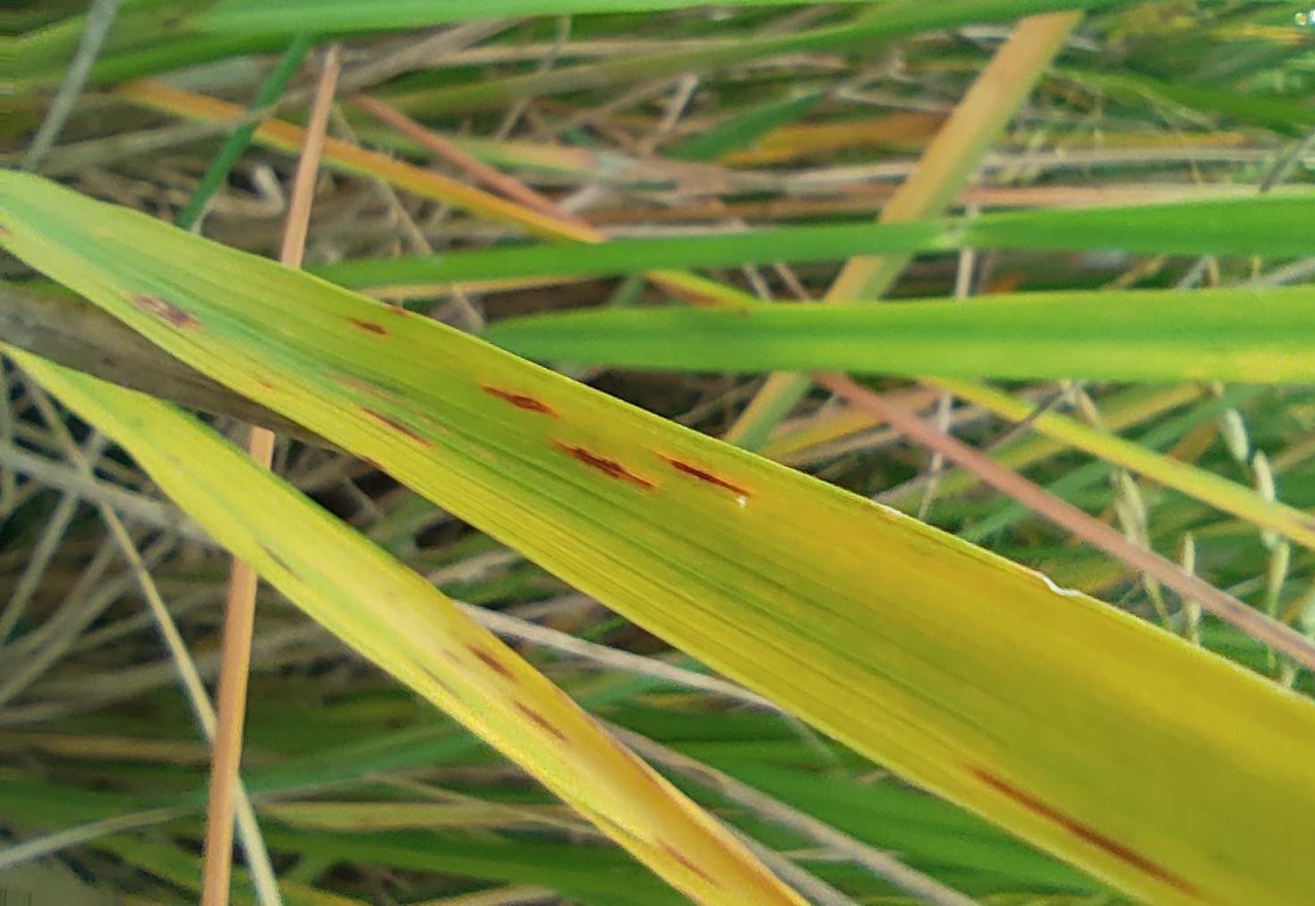LEAF: (0, 175, 1314, 905)
NBS: (958, 764, 1195, 896), (547, 437, 660, 494), (653, 453, 753, 499), (358, 405, 432, 450), (480, 383, 564, 421), (131, 294, 205, 331), (350, 318, 390, 337), (381, 303, 411, 317), (252, 380, 274, 394)
